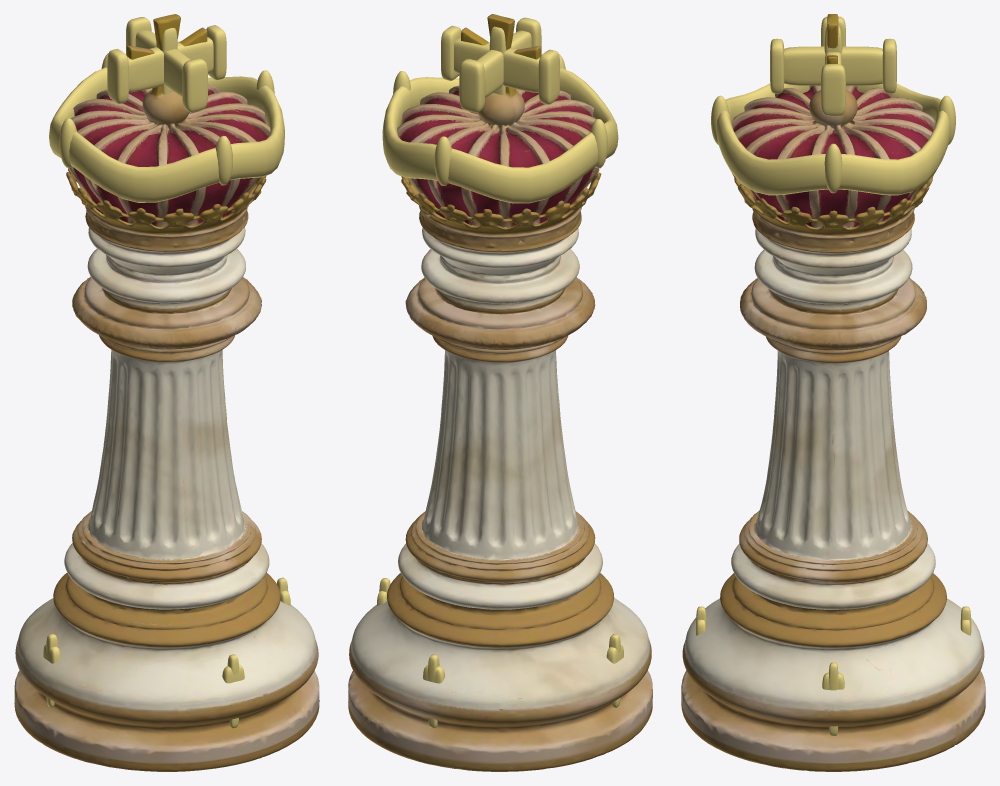
Rendered from king-classic-re.glb.
3 renders of one model, left to right at view 1: azimuth 30°, elevation 25°; view 2: azimuth 150°, elevation 25°; view 3: azimuth 270°, elevation 25°, orthographic.
Parts seen in each view (by area): view 1: world, UniversalRoleAddon_k; view 2: world, UniversalRoleAddon_k; view 3: world, UniversalRoleAddon_k.
Part boxes in pixels (x1,y1,x2,y2): world: [14, 14, 319, 771]; UniversalRoleAddon_k: [43, 17, 290, 728]; world: [348, 14, 652, 771]; UniversalRoleAddon_k: [377, 17, 623, 728]; world: [681, 14, 985, 771]; UniversalRoleAddon_k: [696, 16, 971, 735].
Size of the model in its own units: 0.72 by 1.8 by 0.72.
2 materials, 1 textured.
